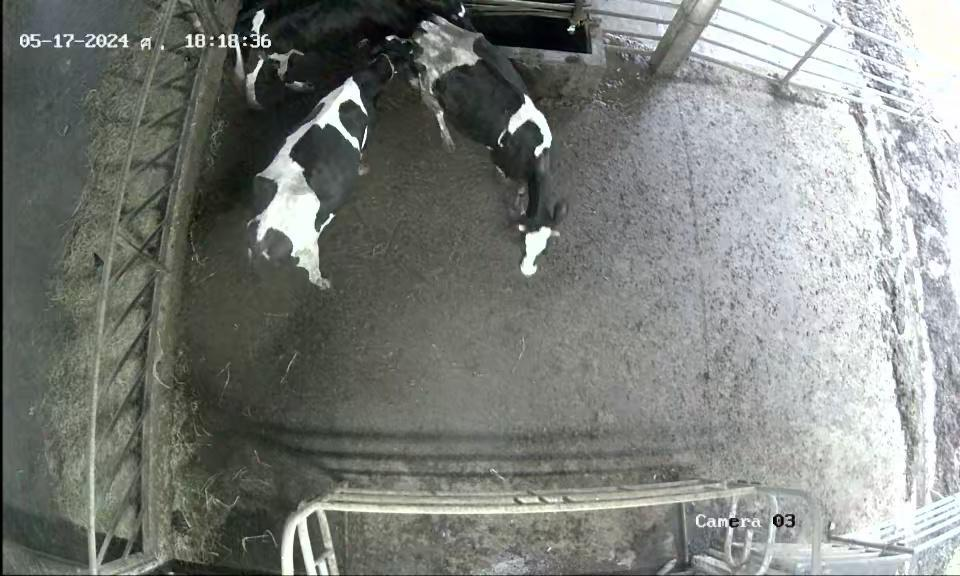drink: (413, 2, 522, 72)
stand: (243, 31, 416, 311), (408, 17, 571, 290)
